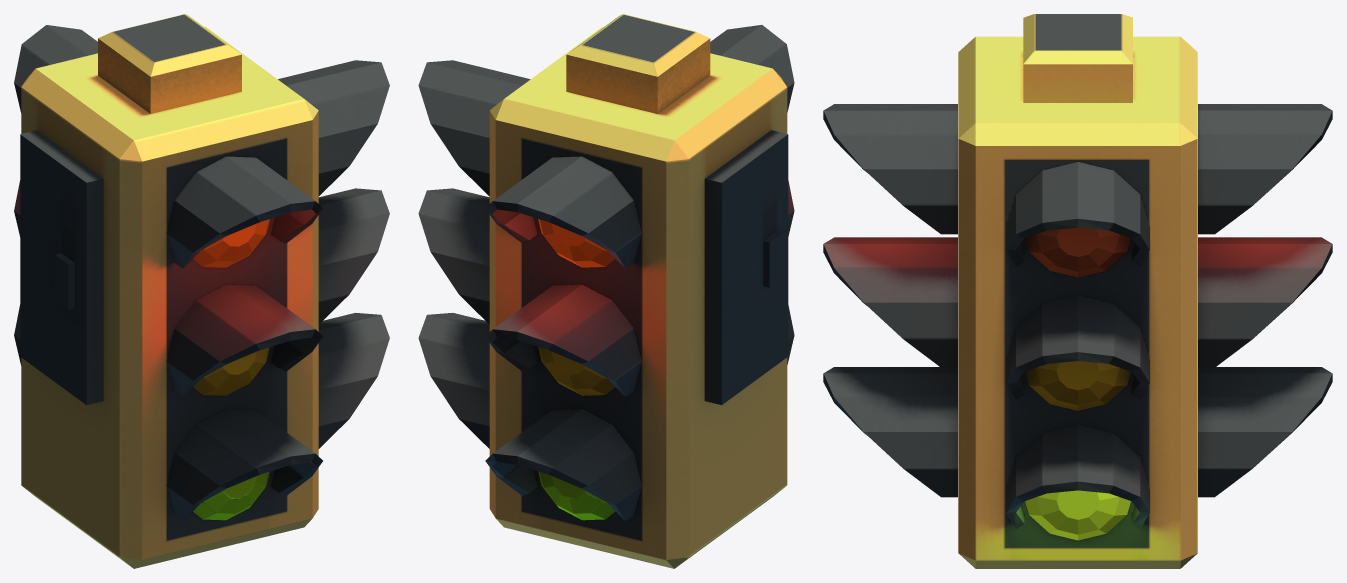
File: f32fe073-2d3e-4d1e-a70b-f4afc3b67879.glb
3 renders of one model, left to right at view 1: azimuth 30°, elevation 25°; view 2: azimuth 150°, elevation 25°; view 3: azimuth 270°, elevation 25°, orthographic. The views are drawn at different scales.
Parts seen in each view (by area): view 1: PUSHILIN_Traffic_Light_Cube.001; view 2: PUSHILIN_Traffic_Light_Cube.001; view 3: PUSHILIN_Traffic_Light_Cube.001.
Boxes of the visible parts, x1,y1,x2,y2 form: PUSHILIN_Traffic_Light_Cube.001: [14, 14, 389, 568]; PUSHILIN_Traffic_Light_Cube.001: [418, 14, 794, 568]; PUSHILIN_Traffic_Light_Cube.001: [823, 14, 1332, 568].
Size of the model in its own units: 1.22 by 1.65 by 1.54.
Materials: 1 (1 with a texture image).
